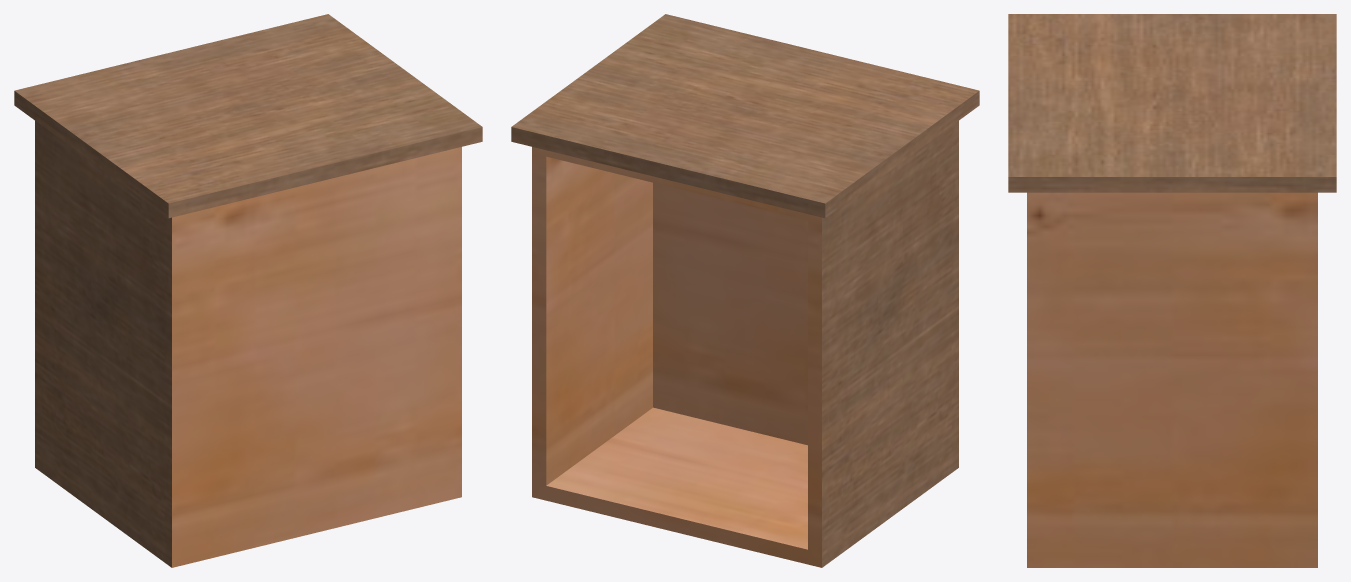
Rendered from Cajonera_01_001.glb.
3 views of the same model, side by side, from view 1: azimuth 30°, elevation 25°; view 2: azimuth 150°, elevation 25°; view 3: azimuth 270°, elevation 25° (orthographic). The views are drawn at different scales.
Visible parts, largest first — view 1: Cajonera_01.001; view 2: Cajonera_01.001; view 3: Cajonera_01.001.
Part boxes in pixels (left/top/right/bottom): Cajonera_01.001: left=14, top=14, right=482, bottom=567; Cajonera_01.001: left=511, top=14, right=979, bottom=567; Cajonera_01.001: left=1008, top=14, right=1336, bottom=567.
Bounding box in the file's own units: 0.6145 × 0.6988 × 0.523.
2 materials, 2 textured.
